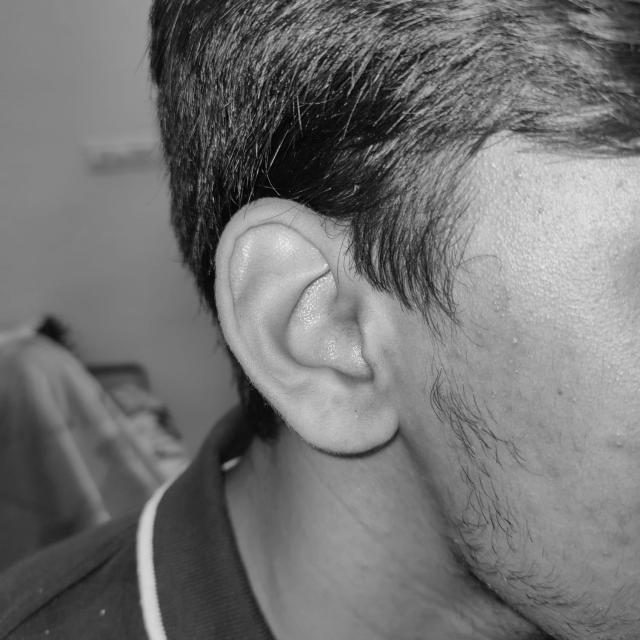ear: (215, 199, 397, 453)
